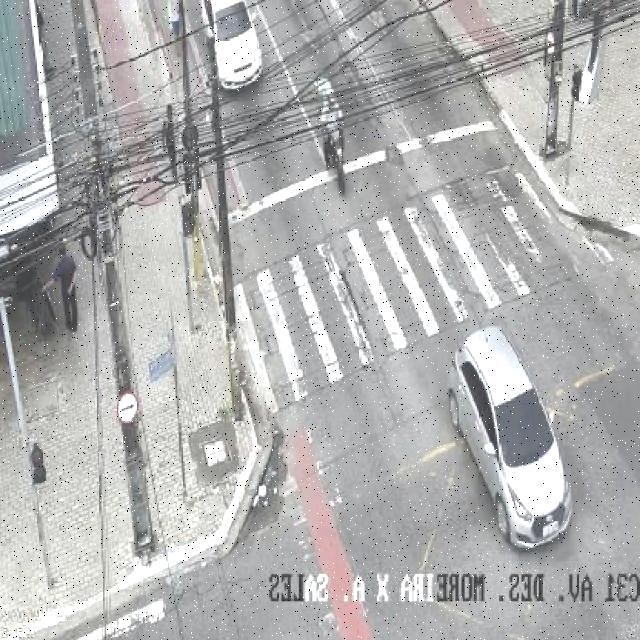Car: (447, 325, 574, 554), (198, 0, 266, 91)
Cycle: (320, 118, 354, 192)
